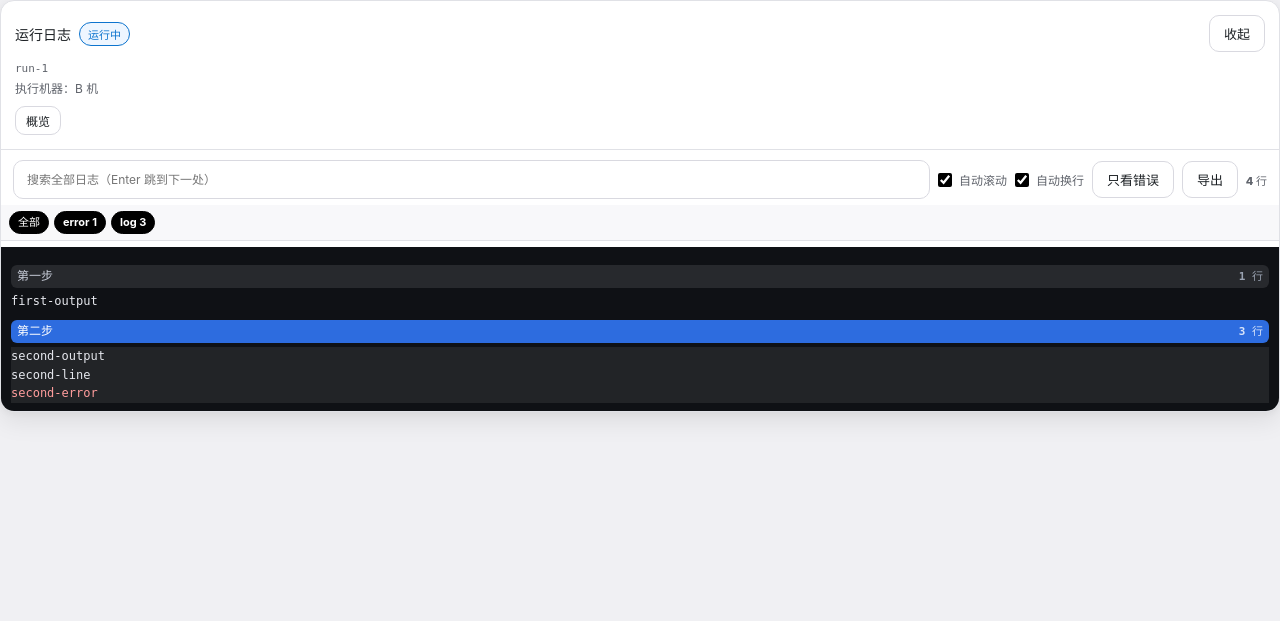
Test: RunLogPanel 顶部折叠区 › 没点节点时概览给运行统计
Click the button "概览": (38, 120) [15,106,61,135]
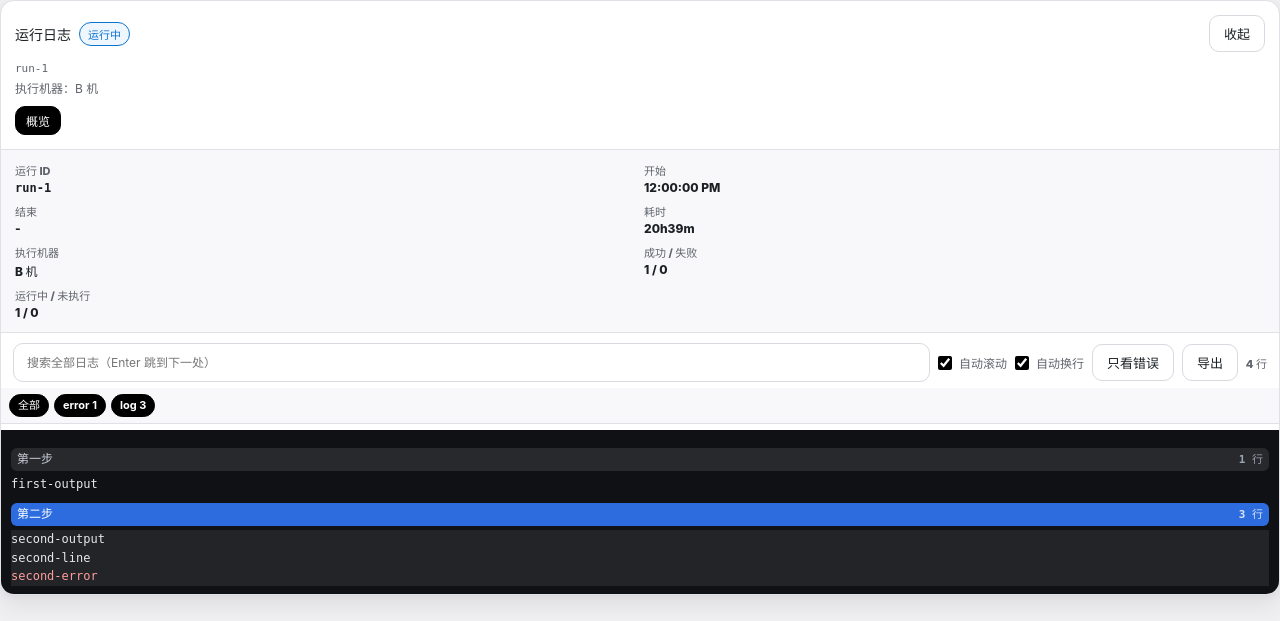
Result: the element with class "nodeRunOverview" shows "run-1" at [15,181,51,195]
Result: the element with class "nodeRunOverview" shows "1 / 0" at [15,164,720,320]
